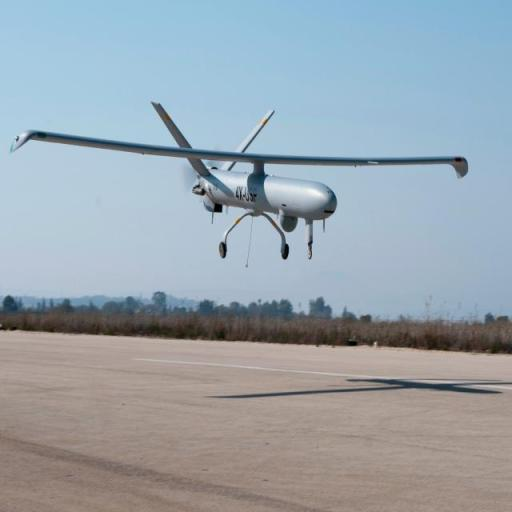uav: (11, 101, 480, 265)
